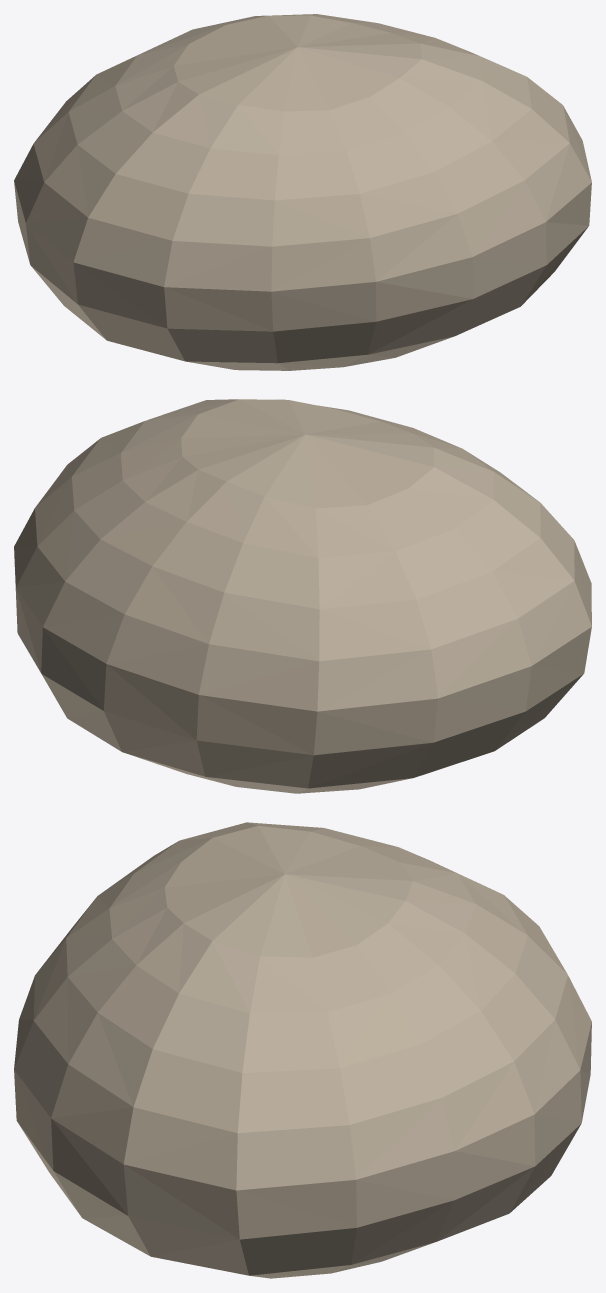
The model's file is landscape-pebble-0dc027.glb.
3 renders of one model, top to bottom at view 1: azimuth 30°, elevation 25°; view 2: azimuth 150°, elevation 25°; view 3: azimuth 270°, elevation 25°, orthographic. The views are drawn at different scales.
Visible parts, largest first — view 1: pebble; view 2: pebble; view 3: pebble.
Boxes of the visible parts, bbox=[...] form: pebble: bbox=[14, 14, 591, 370]; pebble: bbox=[14, 399, 591, 793]; pebble: bbox=[14, 822, 591, 1278].
Bounding box in the file's own units: 0.26 × 0.1352 × 0.2185.
